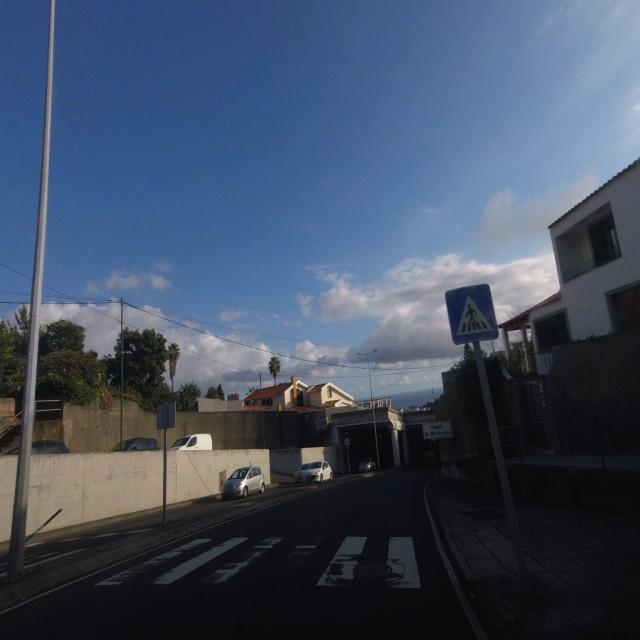car: (221, 465, 265, 500), (8, 438, 70, 454), (294, 460, 332, 485), (168, 433, 213, 451), (110, 436, 160, 451), (358, 456, 378, 473)
